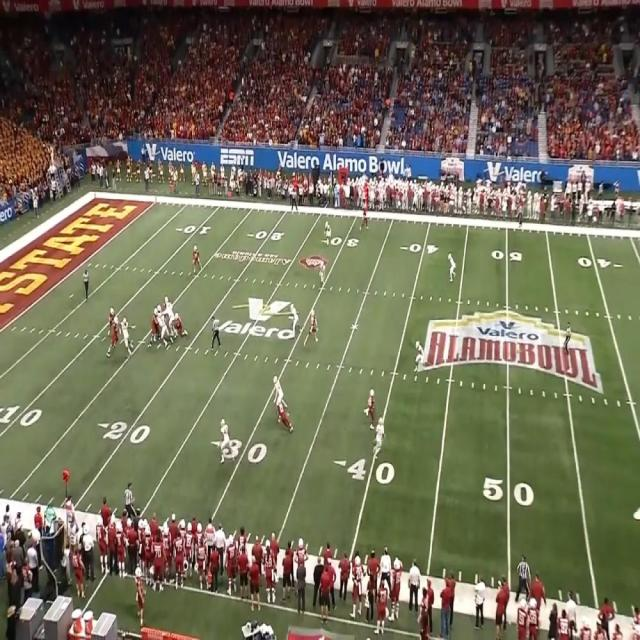db: (416, 339, 426, 378), (378, 418, 387, 458), (448, 252, 455, 281), (324, 220, 330, 246), (320, 261, 324, 285)
lb: (274, 378, 286, 410), (222, 419, 230, 458), (290, 304, 300, 334)
qb: (107, 307, 117, 334)
skill: (279, 395, 292, 429), (369, 388, 378, 430), (308, 310, 318, 344), (192, 245, 200, 272), (362, 203, 369, 230)
